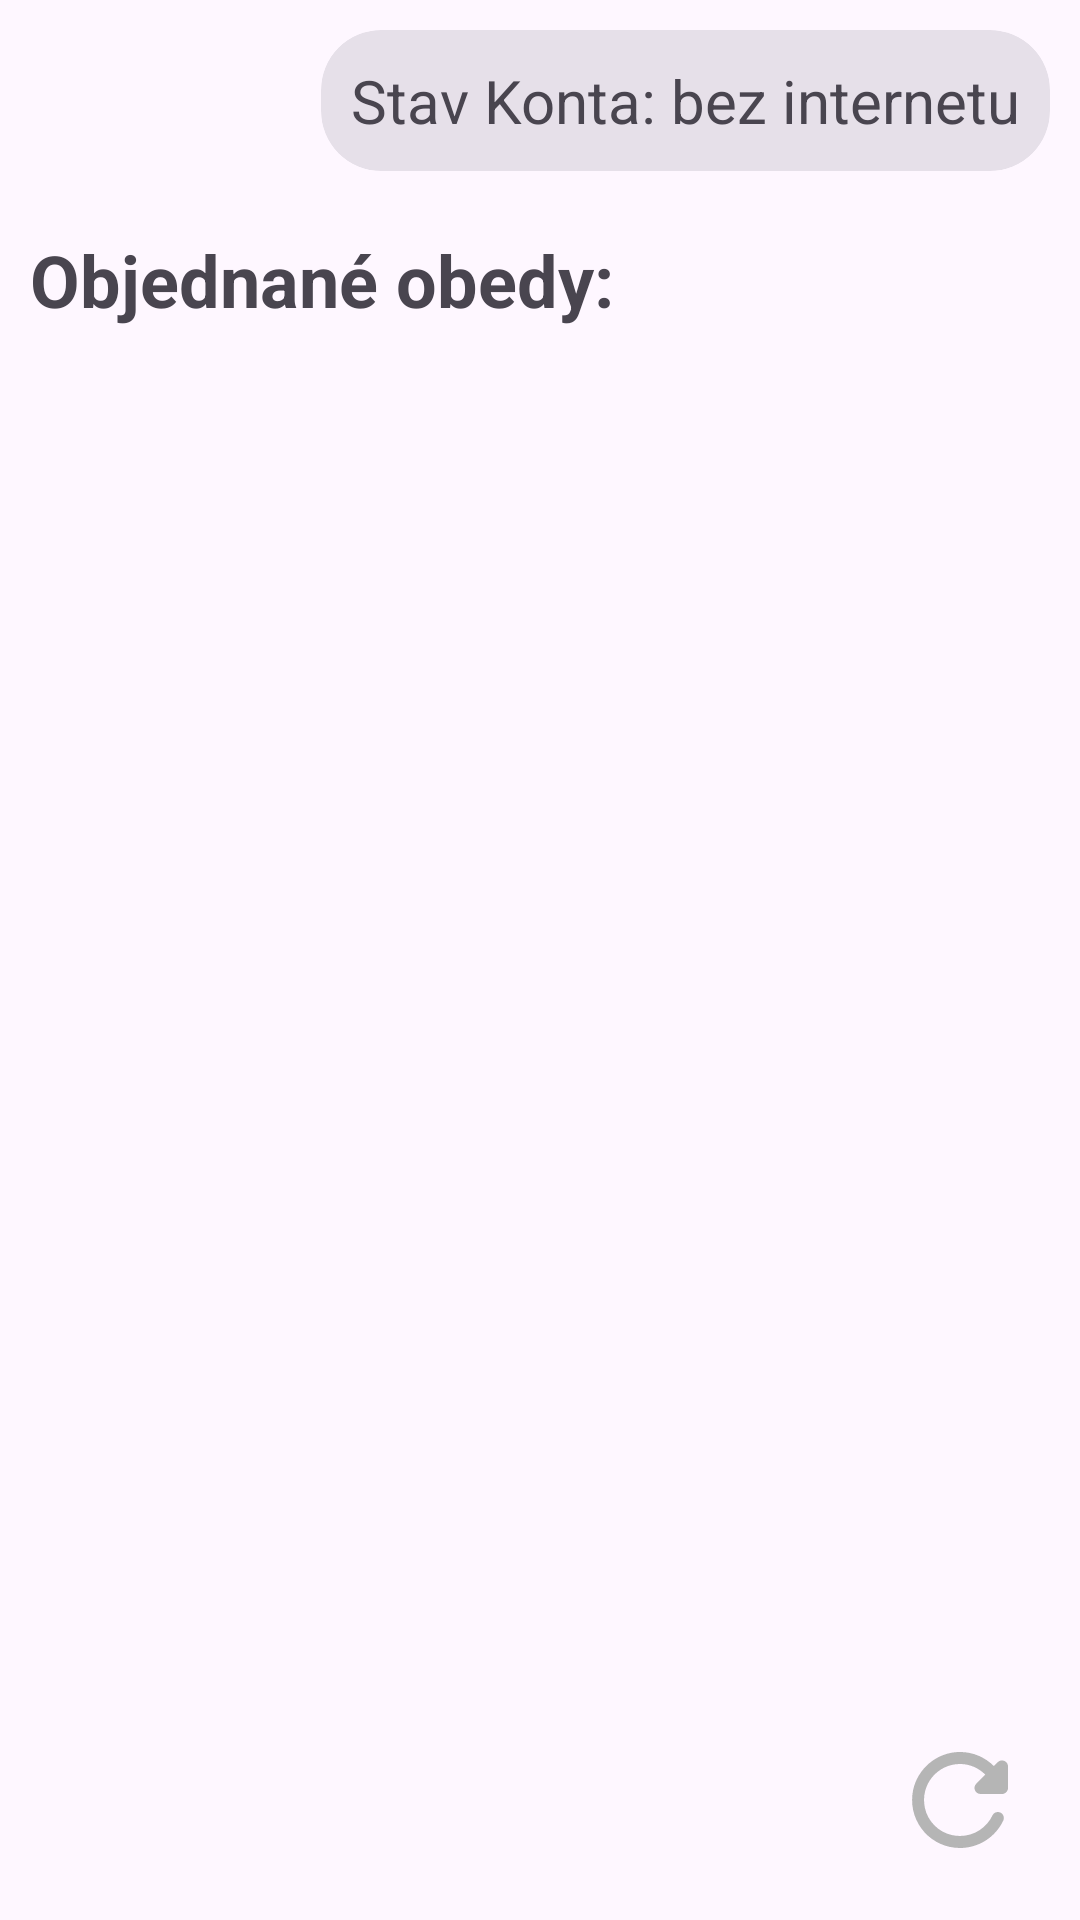

Locate icon controls on the screen. Image size 1080w x 1920h, boxes as (x1, y1, x2, y2).
refresh: (912, 1752, 1008, 1848)
